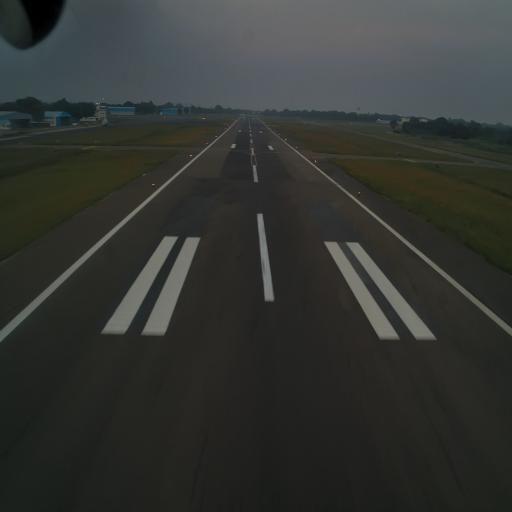on: (189, 152, 193, 158), (314, 157, 317, 164), (151, 182, 155, 187), (357, 190, 360, 195)
